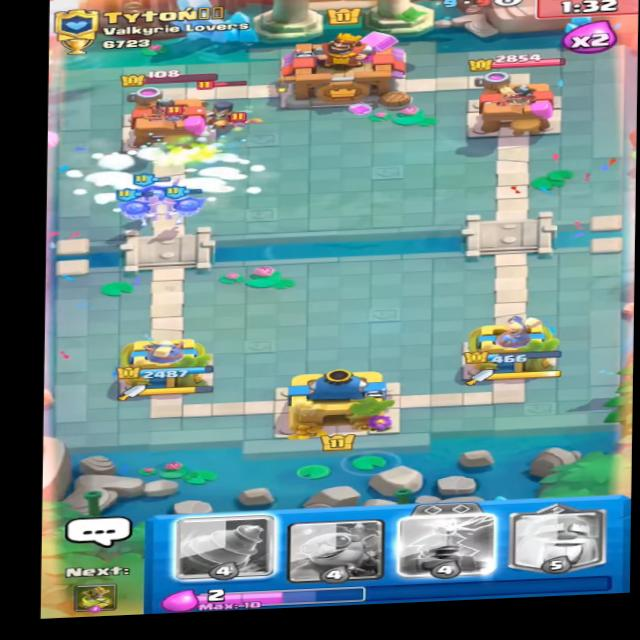bats: (152, 107, 195, 132), (225, 116, 256, 133)
night-witch: (188, 79, 250, 131)
